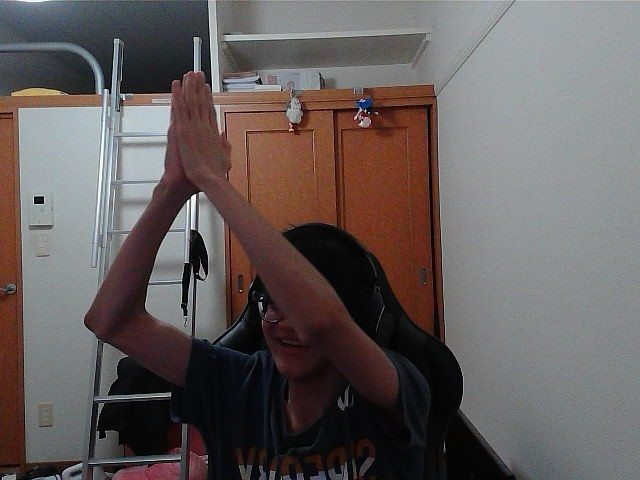pray: (180, 76, 224, 171)
